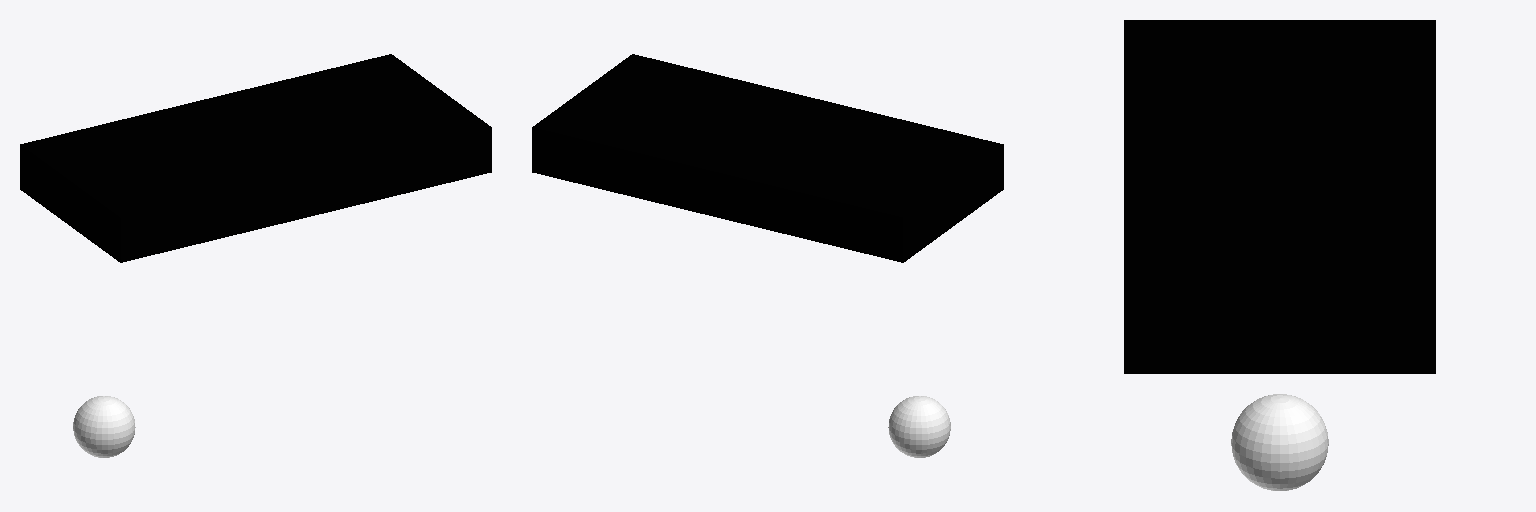
URDF robot description (sorcerer):
<?xml version="1.0" ?>
<robot name="sorcerer" xmlns:xacro="http://ros.org/wiki/xacro">

  <material name="blue">
    <color rgba="0.0 0.0 0.8 1.0"/>
  </material>
  <material name="grey">
    <color rgba="0.5 0.5 0.5 1.0"/>
  </material>
  <material name="red">
    <color rgba="0.8 0.0 0.0 1.0"/>
  </material>
  <material name="indigo">
    <color rgba="0.33 0.0 0.5 1.0"/>
  </material>
  <material name="yellow">
    <color rgba="1.0 1.0 0.0 1.0"/>
  </material>
  <material name="white">
    <color rgba="1.0 1.0 1.0 1.0"/>
  </material>
  <material name="black">
    <color rgba="0.01 0.01 0.01 0.9"/>
  </material>

  <link name="base_footprint"/>

  <joint name="base_joint" type="fixed">
    <parent link="base_footprint"/>
    <child link="base_link"/>
    <origin xyz="0.0 0.0 0.03425" rpy="0 0 0"/>
  </joint>
  <link name="base_link">
    <visual>
      <origin xyz="0 0 0" rpy="0 0 0"/>
      <geometry>
        <mesh filename="package://rosrider_description/meshes/sorcerer.dae" scale="1 1 1"/>
      </geometry>
    </visual>
  </link>
  <joint name="wheel_left_joint" type="continuous">
    <parent link="base_link"/>
    <child link="wheel_left_link"/>
    <origin xyz="0.0 0.05 0.0" rpy="-1.57 0 0"/>
    <axis xyz="0 0 1"/>
  </joint>
  <link name="wheel_left_link">
    <visual>
      <origin xyz="0 0 0" rpy="0 0 0"/>
      <geometry>
        <mesh filename="package://rosrider_description/meshes/wheel_left.dae" scale="1 1 1"/>
      </geometry>
    </visual>
  </link>

  <joint name="wheel_right_joint" type="continuous">
    <parent link="base_link"/>
    <child link="wheel_right_link"/>
    <origin xyz="0.0 -0.05 0.0" rpy="-1.57 0 0"/>
    <axis xyz="0 0 1"/>
  </joint>
  <link name="wheel_right_link">
    <visual>
      <origin xyz="0 0 0" rpy="0 0 0"/>
      <geometry>
        <mesh filename="package://rosrider_description/meshes/wheel_right.dae" scale="1 1 1"/>
      </geometry>
    </visual>
  </link>

  <joint name="caster_back_joint" type="fixed">
    <parent link="base_link"/>
    <child link="caster_back_link"/>
    <origin xyz="-0.09 0 -0.02425" rpy="0 0 0"/>
  </joint>
  <link name="caster_back_link">
    <visual>
      <geometry>
        <sphere radius="0.01"/>
      </geometry>
      <material name="white"/>
    </visual>
  </link>

  <joint name="scan_joint" type="fixed">
    <parent link="base_link"/>
    <child link="base_scan"/>
    <origin xyz="-0.067 0 0.0989" rpy="0 0 0"/>
  </joint>
  <link name="base_scan">
    <visual>
      <origin xyz="0 0 0" rpy="0 0 0"/>
      <geometry>
        <mesh filename="package://rosrider_description/meshes/ldlidar.dae" scale="1 1 1"/>
      </geometry>
    </visual>
  </link>

  <joint name="imu_joint" type="fixed">
    <parent link="base_link"/>
    <child link="imu_link"/>
    <origin xyz="0.008 0 0.0739" rpy="0 0 0"/>
  </joint>
  <link name="imu_link">
    <visual>
      <origin xyz="0 0 0" rpy="0 0 0"/>
      <geometry>
        <mesh filename="package://rosrider_description/meshes/fximu.dae" scale="1 1 1"/>
      </geometry>
    </visual>
  </link>

  <joint name="battery_joint" type="fixed">
    <parent link="base_link"/>
    <child link="battery_link"/>
    <origin xyz="-0.034057 0 0.057282" rpy="0 0 0"/>
  </joint>
  <link name="battery_link">
    <visual>
      <origin xyz="0 0 0" rpy="0 0 0"/>
      <geometry>
        <box size="0.1368 0.0639 0.016"/>
      </geometry>
      <material name="black"/>
    </visual>
  </link>

</robot>

--- Render facts (derived) ---
3 views of the same robot in one strip: view 1: azimuth 30°, elevation 25°; view 2: azimuth 150°, elevation 25°; view 3: azimuth 270°, elevation 25° (orthographic).
Model sorcerer with 8 links and 7 joints (2 continuous, 5 fixed), rooted at base_footprint, posed all joints at 0.
Visible links, largest first — view 1: battery_link, caster_back_link; view 2: battery_link, caster_back_link; view 3: battery_link, caster_back_link.
Boxes of the visible links, x1=… form: battery_link: x1=20, y1=54, x2=491, y2=262; caster_back_link: x1=73, y1=396, x2=135, y2=457; battery_link: x1=532, y1=54, x2=1003, y2=262; caster_back_link: x1=888, y1=396, x2=950, y2=457; battery_link: x1=1124, y1=20, x2=1435, y2=373; caster_back_link: x1=1231, y1=394, x2=1328, y2=490.
Size in the robot's own frame: 0.1368 by 0.0639 by 0.0995 metres.
Meshes: 5 distinct files referenced, 0 mesh visuals loaded (none loaded); not drawn: 5 (reference not matched to a file when rendering).